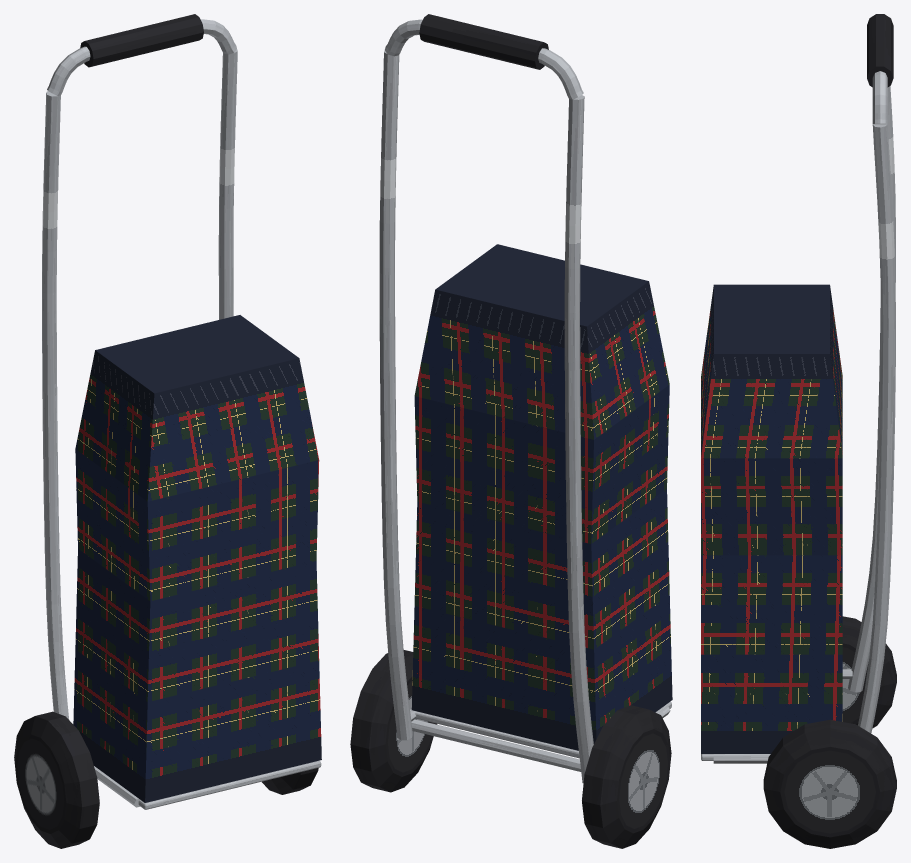
File: cart_own.glb
The picture shows the model from 3 angles, left to right: view 1: azimuth 30°, elevation 25°; view 2: azimuth 150°, elevation 25°; view 3: azimuth 270°, elevation 25°; orthographic projection. The views are drawn at different scales.
Visible parts, largest first — view 1: lathe; view 2: lathe; view 3: lathe.
Part boxes in pixels (left/top/right/bottom): lathe: left=14, top=14, right=321, bottom=848; lathe: left=350, top=14, right=672, bottom=848; lathe: left=701, top=14, right=896, bottom=848.
Size of the model in its own units: 0.344 by 0.9952 by 0.235.
Materials: 4 (4 with a texture image).
